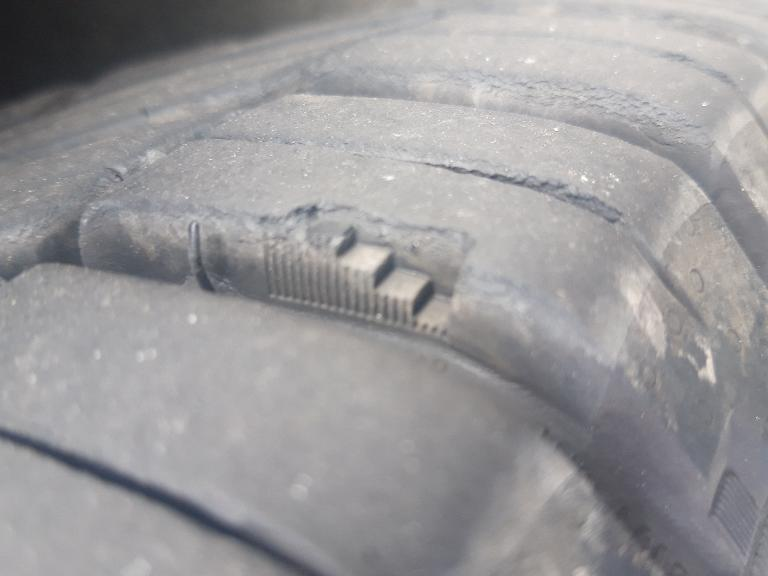temoin:80: (246, 189, 487, 351)
